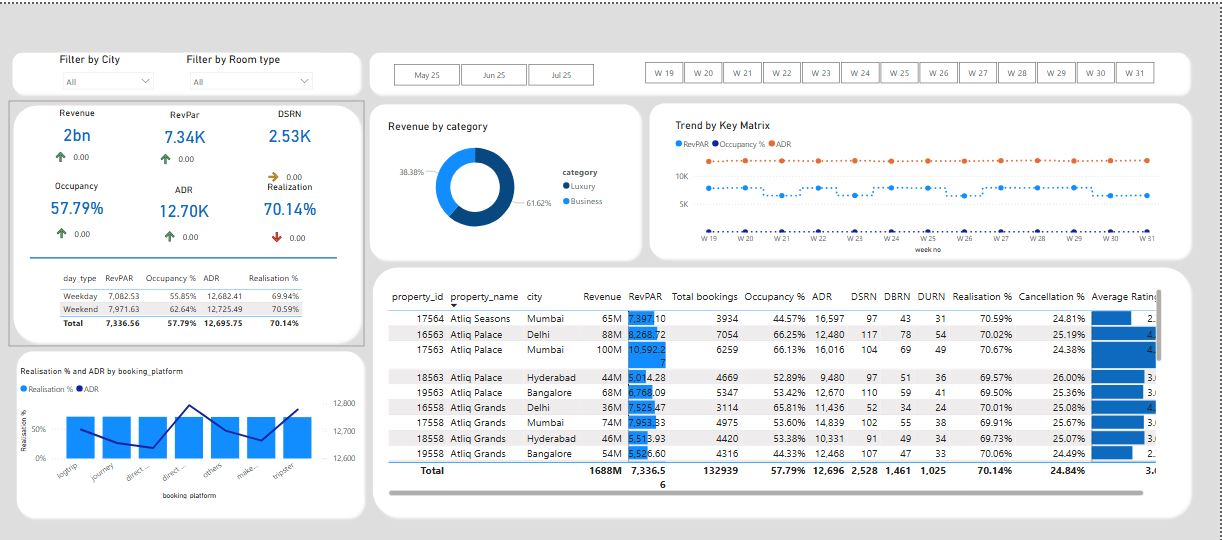

What the dashboard file says about the page in this screenshot:
{"tool":"powerbi","page":{"name":"Dashboard","canvas":[1920,1080],"ordinal":0},"visuals":[{"type":"shape","box":[580,406.7,1300,406.7],"z":0},{"type":"shape","box":[20.4,539.1,560,275.7],"z":1000},{"type":"shape","box":[15,151.7,560,386.7],"z":2000},{"type":"shape","box":[575,150,440,258.3],"z":3000},{"type":"shape","box":[1015,148.3,865,258.3],"z":4000},{"type":"shape","box":[12.5,68.8,561.2,80],"z":5000},{"type":"shape","box":[575,68.3,1303.3,80],"z":6000},{"type":"tableEx","fields":{"Values":["dim_hotels.property_id","dim_hotels.property_name","dim_hotels.city","Key_mesures table.Revenue","Key_mesures table.RevPAR","Key_mesures table.Total bookings","Key_mesures table.Occupancy %","Key_mesures table.ADR","Key_mesures table.DSRN","Key_mesures table.DBRN","Key_mesures table.DURN","Key_mesures table.Realisation %"]},"box":[606.7,443.3,1226.7,335],"z":7000},{"type":"slicer","title":"Filter by City","fields":{"Values":["dim_hotels.city"]},"box":[90,76.7,163.3,65],"z":8000},{"type":"slicer","title":"Filter by Room type","fields":{"Values":["dim_rooms.room_class"]},"box":[290,76.7,213.3,65],"z":9000},{"type":"slicer","title":"Filter by Dates","fields":{"Values":["dim_date.mmm yy"]},"box":[595,88.3,365,46.7],"z":10000},{"type":"slicer","title":"Filter by Week No","fields":{"Values":["dim_date.week no"]},"box":[990,85,850,46.7],"z":11000},{"type":"tableEx","fields":{"Values":["Key_mesures table.Revenue WoW change %"]},"box":[81.2,204.1,81.2,55],"z":12000},{"type":"card","title":"Revenue","fields":{"Values":["Key_mesures table.Revenue"]},"box":[47.5,164.1,148.8,66.2],"z":13000},{"type":"tableEx","fields":{"Values":["Key_mesures table.Revpar WoW change %"]},"box":[247.3,206.1,81.2,55],"z":14000},{"type":"card","title":"RevPar","fields":{"Values":["Key_mesures table.RevPAR"]},"box":[218.6,166.1,147.5,66.2],"z":15000},{"type":"tableEx","fields":{"Values":["Key_mesures table.DSRN WoW change %"]},"box":[416.5,234.6,81.2,55],"z":16000},{"type":"card","title":"DSRN","fields":{"Values":["Key_mesures table.DSRN"]},"box":[384,165,147.5,66.2],"z":17000},{"type":"tableEx","fields":{"Values":["Key_mesures table.Occupancy WoW change %"]},"box":[82.5,324.1,81.2,55],"z":18000},{"type":"card","title":"Occupancy","fields":{"Values":["Key_mesures table.Occupancy %"]},"box":[47.5,279.1,147.5,66.2],"z":19000},{"type":"tableEx","fields":{"Values":["Key_mesures table.ADR WoW change %"]},"box":[252.5,329.1,81.2,55],"z":20000},{"type":"card","title":"ADR","fields":{"Values":["Key_mesures table.ADR"]},"box":[216.8,282.9,147.5,66.2],"z":21000},{"type":"tableEx","fields":{"Values":["Key_mesures table.Realisation WoW change %"]},"box":[421.5,329.3,81.2,55],"z":22000},{"type":"card","title":"Realization","fields":{"Values":["Key_mesures table.Realisation %"]},"box":[384,280.6,147.5,66.2],"z":23000},{"type":"donutChart","fields":{"Category":["dim_hotels.category"],"Y":["Key_mesures table.Revenue"]},"box":[606.7,181.7,358.3,193.3],"z":24000},{"type":"lineChart","title":"Trend by Key Matrix","fields":{"Category":["dim_date.week no","dim_date.wn"],"Y":["Key_mesures table.RevPAR","Key_mesures table.Occupancy %","Key_mesures table.ADR"]},"box":[1058.3,180,775,216.7],"z":25000},{"type":"lineStackedColumnComboChart","fields":{"Category":["fact_bookings.booking_platform"],"Y":["Key_mesures table.Realisation %"],"Y2":["Key_mesures table.ADR"]},"box":[29,570.5,537.1,212.9],"z":26000},{"type":"tableEx","fields":{"Values":["dim_date.day_type","Key_mesures table.RevPAR","Key_mesures table.Occupancy %","Key_mesures table.ADR","Key_mesures table.Realisation %"]},"box":[90,415,405,110],"z":27000},{"type":"shape","box":[48.3,391.7,483.3,15],"z":28000}]}

Visuals, with their boxes on the page's 1920x1080 design canvas (x1, y1, x2, y2). These are canvas units, not pixel positions in the 1222x540 screenshot, which may show the page scaled, cropped or inside an application window:
shape: locate(580, 407, 1880, 813)
shape: locate(20, 539, 580, 815)
shape: locate(15, 152, 575, 538)
shape: locate(575, 150, 1015, 408)
shape: locate(1015, 148, 1880, 407)
shape: locate(12, 69, 574, 149)
shape: locate(575, 68, 1878, 148)
tableEx - dim_hotels.property_id x dim_hotels.property_name: locate(607, 443, 1833, 778)
"Filter by City" slicer: locate(90, 77, 253, 142)
"Filter by Room type" slicer: locate(290, 77, 503, 142)
"Filter by Dates" slicer: locate(595, 88, 960, 135)
"Filter by Week No" slicer: locate(990, 85, 1840, 132)
tableEx - Key_mesures table.Revenue WoW change %: locate(81, 204, 162, 259)
"Revenue" card: locate(48, 164, 196, 230)
tableEx - Key_mesures table.Revpar WoW change %: locate(247, 206, 328, 261)
"RevPar" card: locate(219, 166, 366, 232)
tableEx - Key_mesures table.DSRN WoW change %: locate(416, 235, 498, 290)
"DSRN" card: locate(384, 165, 532, 231)
tableEx - Key_mesures table.Occupancy WoW change %: locate(82, 324, 164, 379)
"Occupancy" card: locate(48, 279, 195, 345)
tableEx - Key_mesures table.ADR WoW change %: locate(252, 329, 334, 384)
"ADR" card: locate(217, 283, 364, 349)
tableEx - Key_mesures table.Realisation WoW change %: locate(422, 329, 503, 384)
"Realization" card: locate(384, 281, 532, 347)
donutChart - dim_hotels.category x Key_mesures table.Revenue: locate(607, 182, 965, 375)
"Trend by Key Matrix" lineChart: locate(1058, 180, 1833, 397)
lineStackedColumnComboChart - fact_bookings.booking_platform x Key_mesures table.Realisation %: locate(29, 570, 566, 783)
tableEx - dim_date.day_type x Key_mesures table.RevPAR: locate(90, 415, 495, 525)
shape: locate(48, 392, 532, 407)
